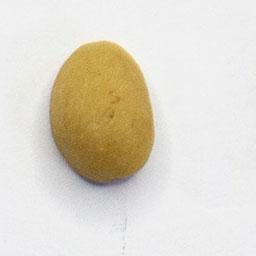defect: (45, 36, 161, 190)
